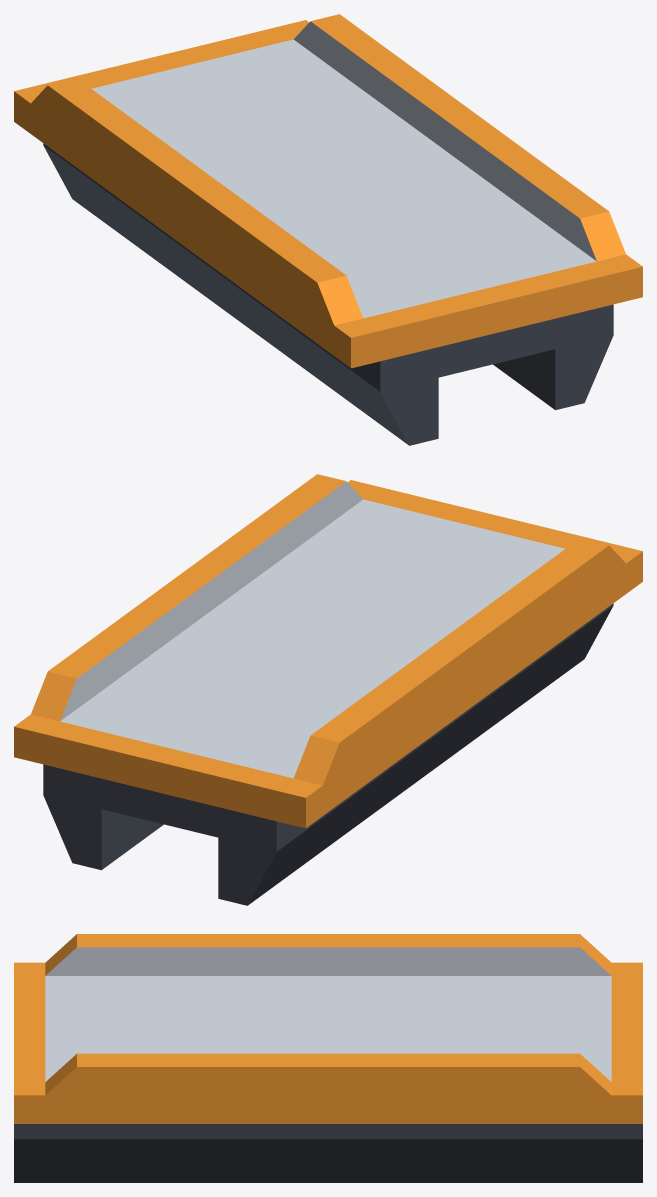
The model's file is monorail_trainFlat.glb.
3 renders of one model, top to bottom at view 1: azimuth 30°, elevation 25°; view 2: azimuth 150°, elevation 25°; view 3: azimuth 270°, elevation 25°, orthographic. The views are drawn at different scales.
Parts seen in each view (by area): view 1: monorail_trainFlat; view 2: monorail_trainFlat; view 3: monorail_trainFlat.
Part boxes in pixels (<box>): monorail_trainFlat: <box>14,14,642,445</box>; monorail_trainFlat: <box>14,474,642,905</box>; monorail_trainFlat: <box>14,934,642,1182</box>.
Bounding box in the file's own units: 0.5 × 0.25 × 1.
